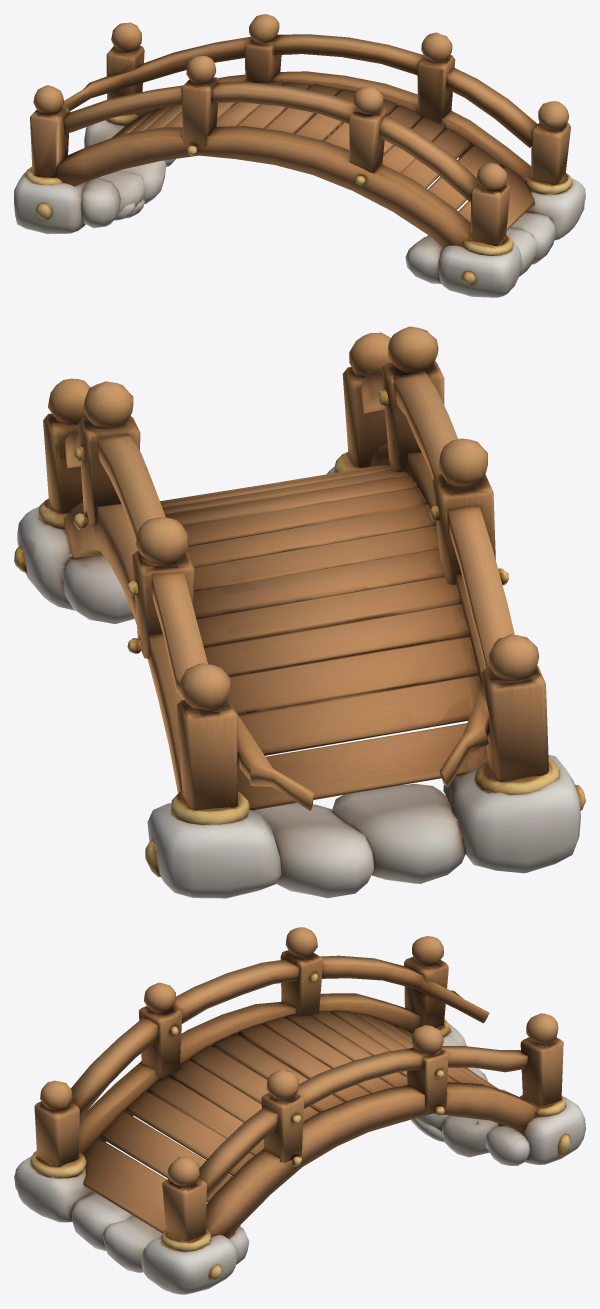
The model's file is prop_bridge.glb.
3 renders of one model, top to bottom at view 1: azimuth 30°, elevation 25°; view 2: azimuth 150°, elevation 25°; view 3: azimuth 270°, elevation 25°, orthographic. The views are drawn at different scales.
Parts seen in each view (by area): view 1: tripo_node_75f915e2-31f7-468d-b58d-aa704592d5eb; view 2: tripo_node_75f915e2-31f7-468d-b58d-aa704592d5eb; view 3: tripo_node_75f915e2-31f7-468d-b58d-aa704592d5eb.
Part boxes in pixels (left/top/right/bottom): tripo_node_75f915e2-31f7-468d-b58d-aa704592d5eb: left=14, top=14, right=585, bottom=297; tripo_node_75f915e2-31f7-468d-b58d-aa704592d5eb: left=14, top=326, right=585, bottom=898; tripo_node_75f915e2-31f7-468d-b58d-aa704592d5eb: left=14, top=927, right=585, bottom=1294.
Bounding box in the file's own units: 0.9828 × 0.4277 × 1.03.
Materials: 1 (1 with a texture image).
